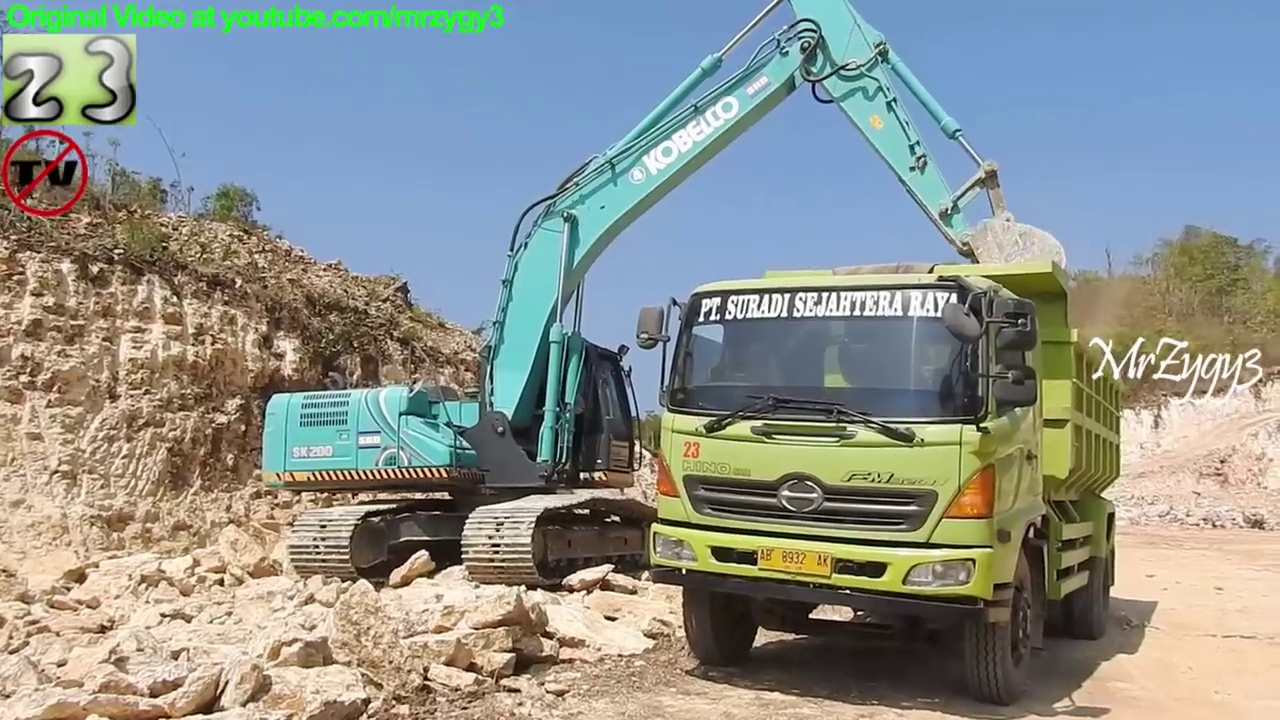excavator: (251, 1, 1077, 603)
truck: (631, 257, 1133, 710)
